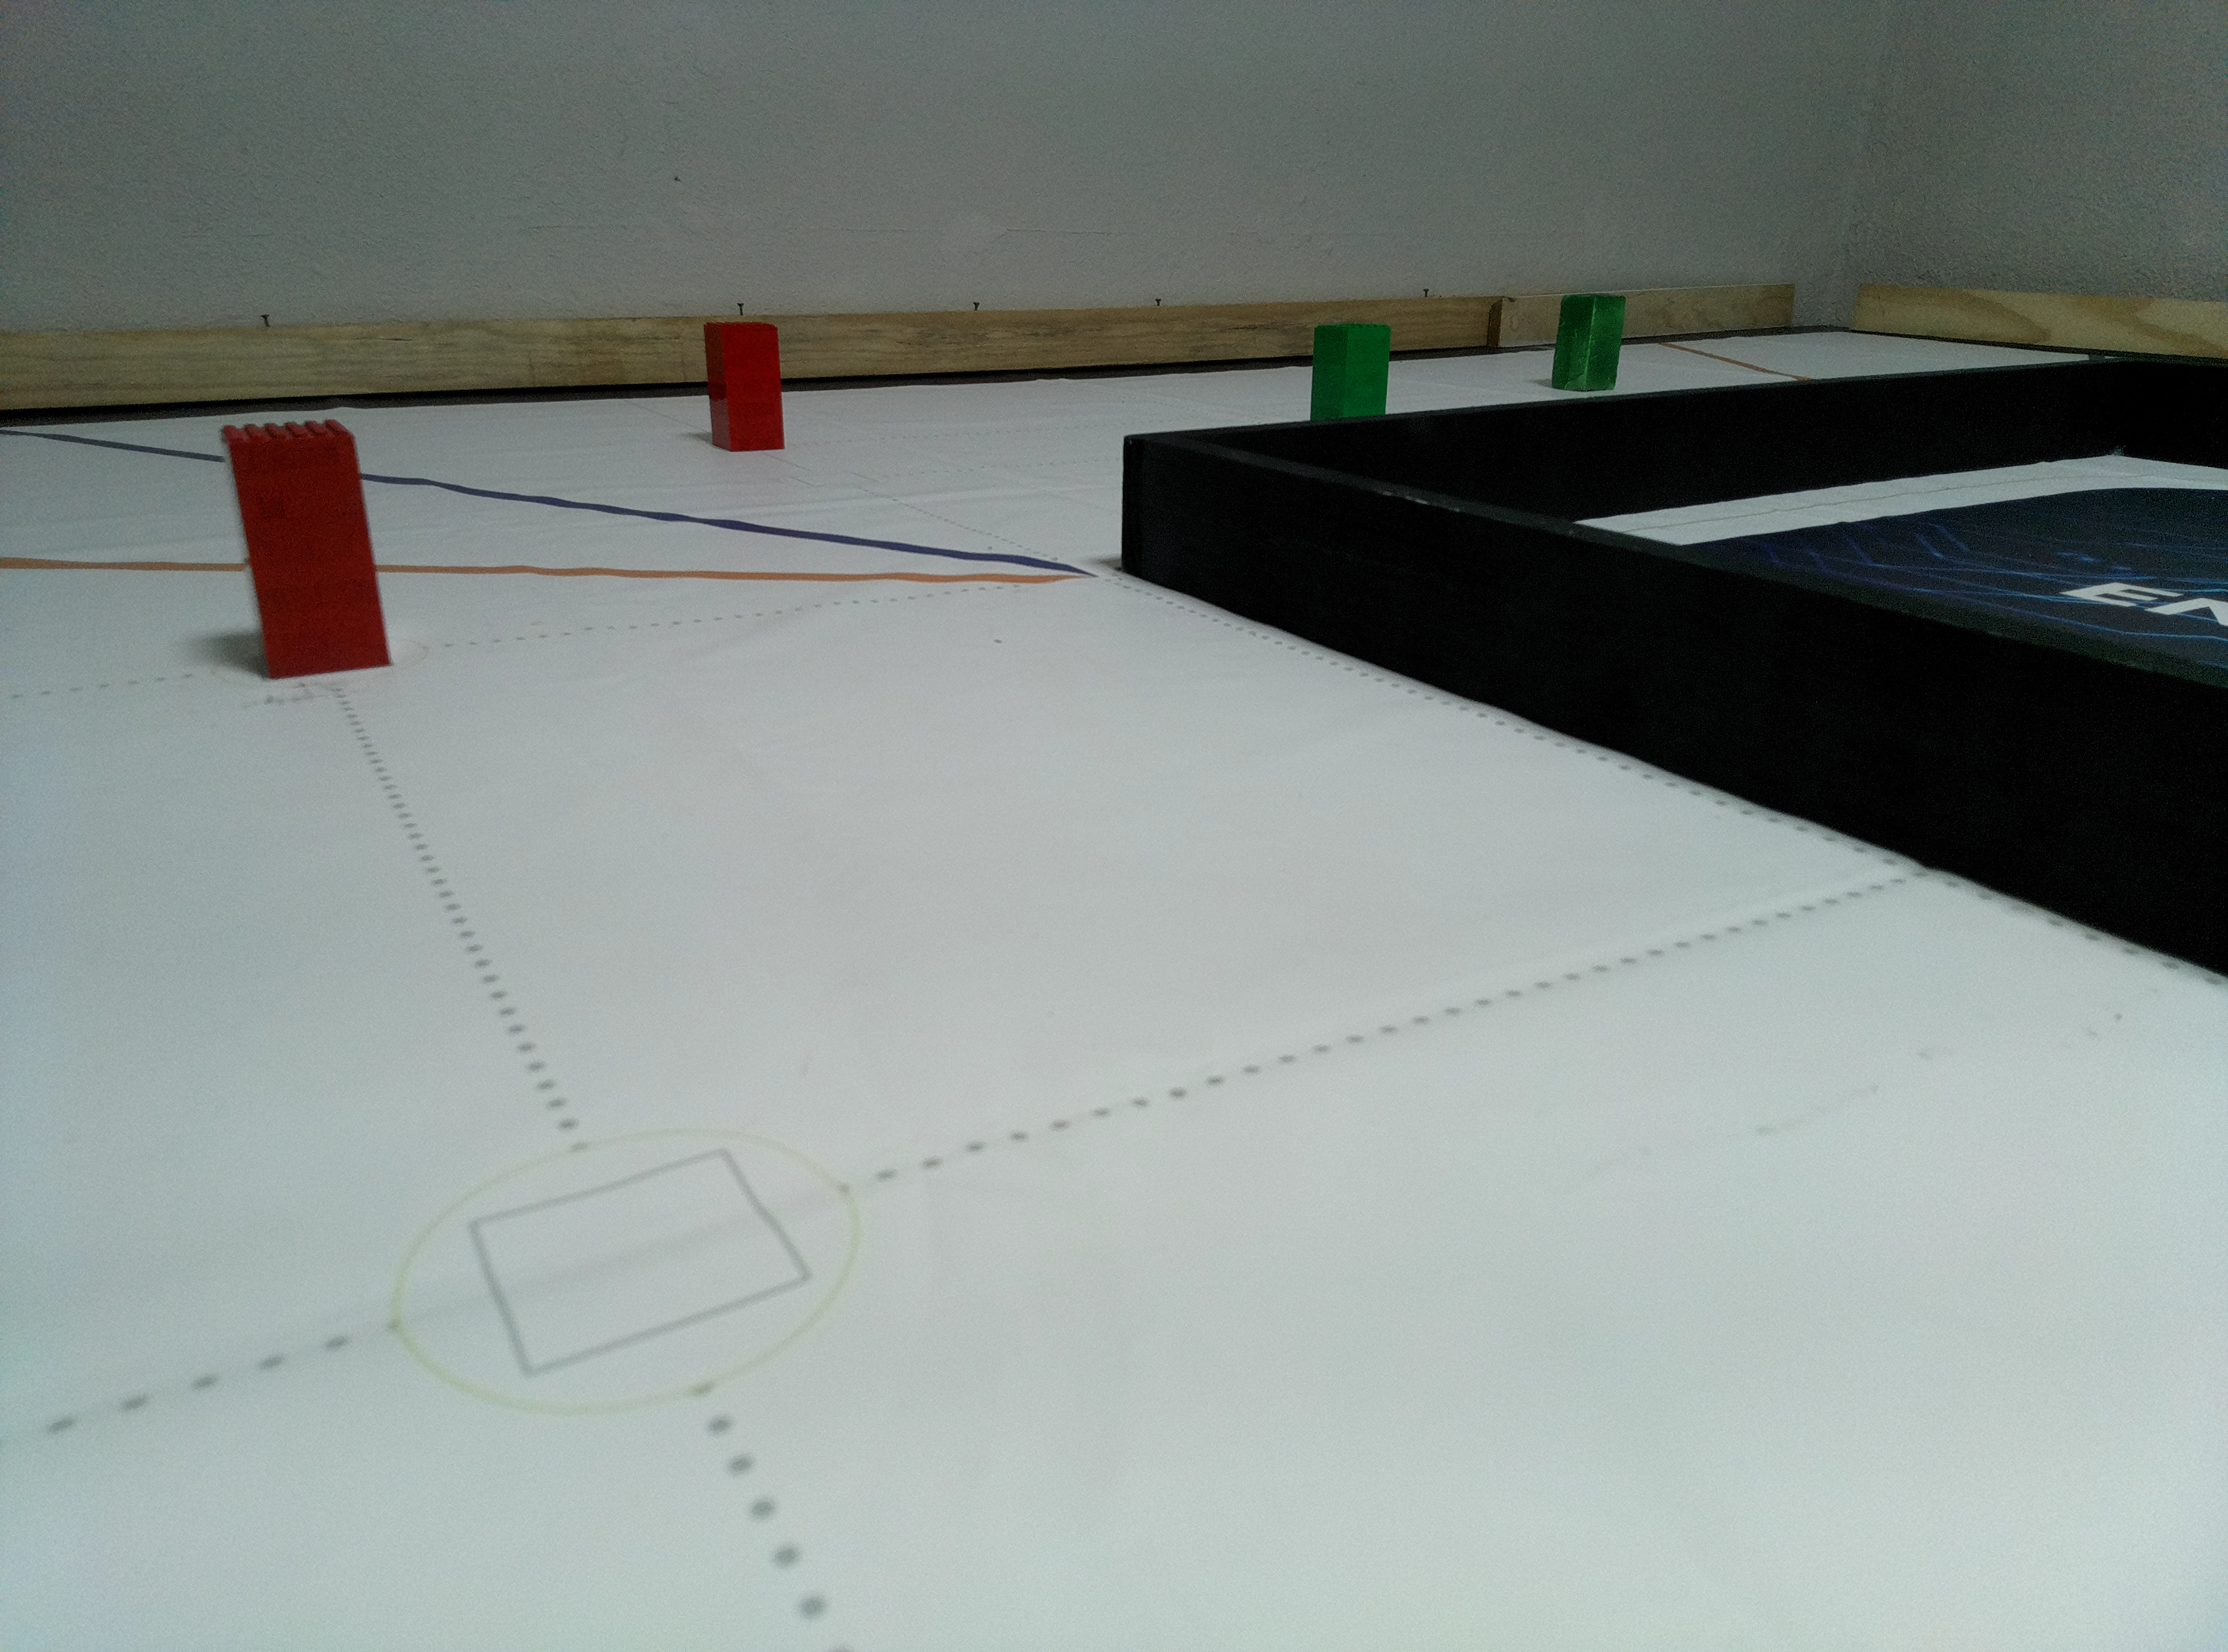greenbox: (1550, 293, 1626, 394), (1310, 323, 1392, 416)
redbox: (212, 418, 394, 682), (703, 321, 786, 453)
